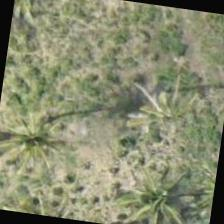Kelapa_Sawit: (114, 58, 216, 160), (0, 87, 83, 188), (107, 169, 206, 223)
